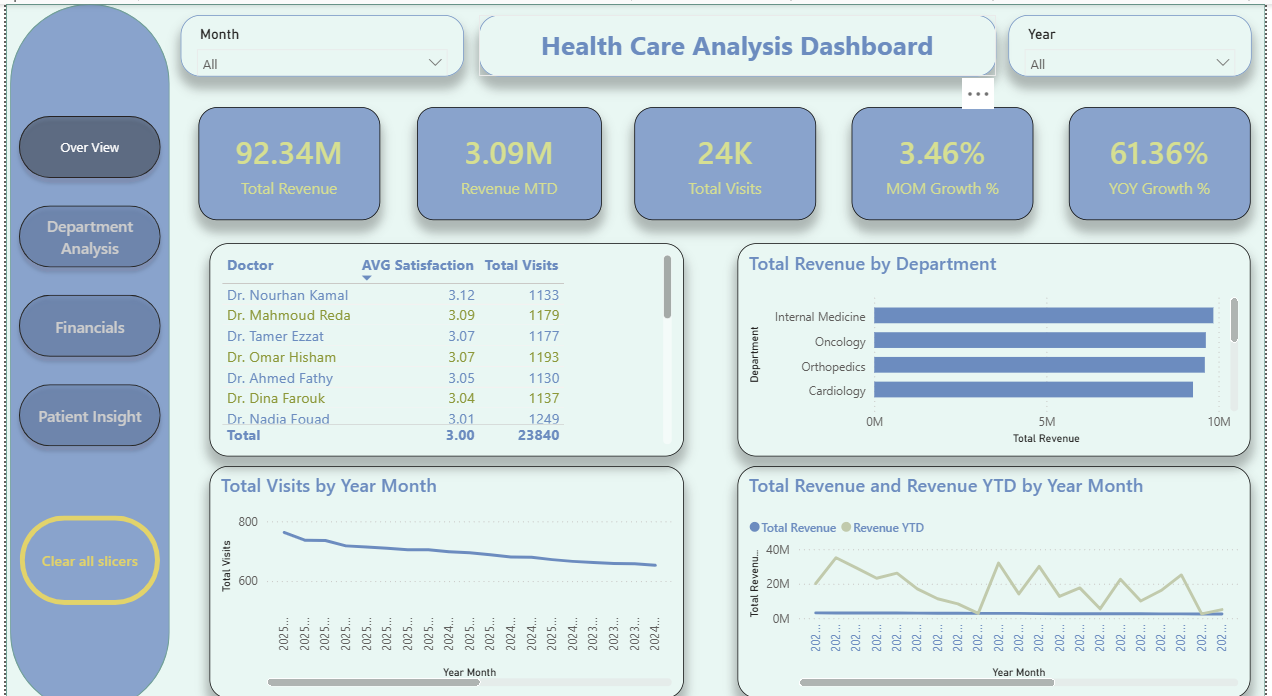

The dashboard page shown, as its layout file describes it:
{"tool":"powerbi","page":{"name":"Over View","canvas":[1280,720],"ordinal":0},"visuals":[{"type":"shape","box":[0,0,1280,720],"z":0},{"type":"card","fields":{"Values":["healthcare_visits.Revenue MTD"]},"box":[417.9,104.8,187.3,114.6],"z":1000},{"type":"lineChart","fields":{"Category":["DateTable.Year Month"],"Y":["healthcare_visits.Total Visits"]},"box":[206.8,469.6,482.2,236.2],"z":2000},{"type":"barChart","fields":{"Category":["healthcare_visits.Department"],"Y":["healthcare_visits.Total Revenue"]},"box":[743.5,243.2,521.3,216.6],"z":3000},{"type":"tableEx","fields":{"Values":["healthcare_visits.Doctor","healthcare_visits.AVG Satisfaction","healthcare_visits.Total Visits"]},"box":[206.8,243.2,482.2,216.6],"z":4000},{"type":"lineChart","fields":{"Category":["DateTable.Year Month"],"Y":["healthcare_visits.Total Revenue","healthcare_visits.Revenue YTD"]},"box":[743.5,469.6,521.3,236.2],"z":5000},{"type":"card","fields":{"Values":["healthcare_visits.Total Revenue"]},"box":[195.7,104.8,185,115],"z":6000},{"type":"card","fields":{"Values":["healthcare_visits.YOY Growth %"]},"box":[1080.9,104.6,185,115],"z":7000},{"type":"card","fields":{"Values":["healthcare_visits.Total Visits"]},"box":[638,104.6,185,115],"z":8000},{"type":"card","fields":{"Values":["healthcare_visits.MOM Growth %"]},"box":[859.4,104.6,185,115],"z":9000},{"type":"shape","box":[4.2,0,162.1,719.8],"z":10000},{"type":"textbox","box":[480.8,11.2,525.5,62.9],"z":11000},{"type":"slicer","fields":{"Values":["DateTable.Year"]},"box":[1018.8,11.2,247.4,62.9],"z":12000},{"type":"slicer","fields":{"Values":["DateTable.Month"]},"box":[177.5,11.2,287.9,62.9],"z":13000},{"type":"pageNavigator","box":[4.2,104.8,162.1,355],"z":15001},{"type":"actionButton","box":[14,519.9,142.6,90.8],"z":15002}]}

Visuals, with their boxes in screenshot pixels (x1, y1, x2, y2), scaled from the page's 1280x720 canvas onto the 1272x696 screenshot:
shape: {"x1": 0, "y1": 0, "x2": 1271, "y2": 695}
card - healthcare_visits.Revenue MTD: {"x1": 415, "y1": 101, "x2": 601, "y2": 212}
lineChart - DateTable.Year Month x healthcare_visits.Total Visits: {"x1": 206, "y1": 454, "x2": 685, "y2": 682}
barChart - healthcare_visits.Department x healthcare_visits.Total Revenue: {"x1": 739, "y1": 235, "x2": 1257, "y2": 444}
tableEx - healthcare_visits.Doctor x healthcare_visits.AVG Satisfaction: {"x1": 206, "y1": 235, "x2": 685, "y2": 444}
lineChart - DateTable.Year Month x healthcare_visits.Total Revenue: {"x1": 739, "y1": 454, "x2": 1257, "y2": 682}
card - healthcare_visits.Total Revenue: {"x1": 194, "y1": 101, "x2": 378, "y2": 212}
card - healthcare_visits.YOY Growth %: {"x1": 1074, "y1": 101, "x2": 1258, "y2": 212}
card - healthcare_visits.Total Visits: {"x1": 634, "y1": 101, "x2": 818, "y2": 212}
card - healthcare_visits.MOM Growth %: {"x1": 854, "y1": 101, "x2": 1038, "y2": 212}
shape: {"x1": 4, "y1": 0, "x2": 165, "y2": 695}
textbox: {"x1": 478, "y1": 11, "x2": 1000, "y2": 72}
slicer - DateTable.Year: {"x1": 1012, "y1": 11, "x2": 1258, "y2": 72}
slicer - DateTable.Month: {"x1": 176, "y1": 11, "x2": 462, "y2": 72}
pageNavigator: {"x1": 4, "y1": 101, "x2": 165, "y2": 444}
actionButton: {"x1": 14, "y1": 503, "x2": 156, "y2": 590}
